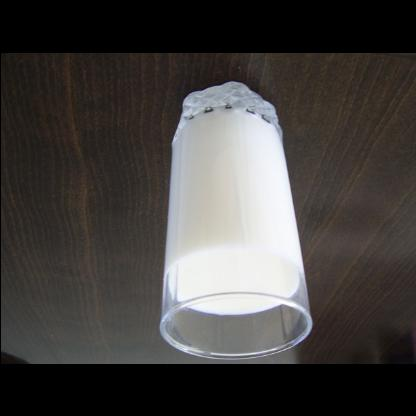milk: (163, 108, 305, 318)
